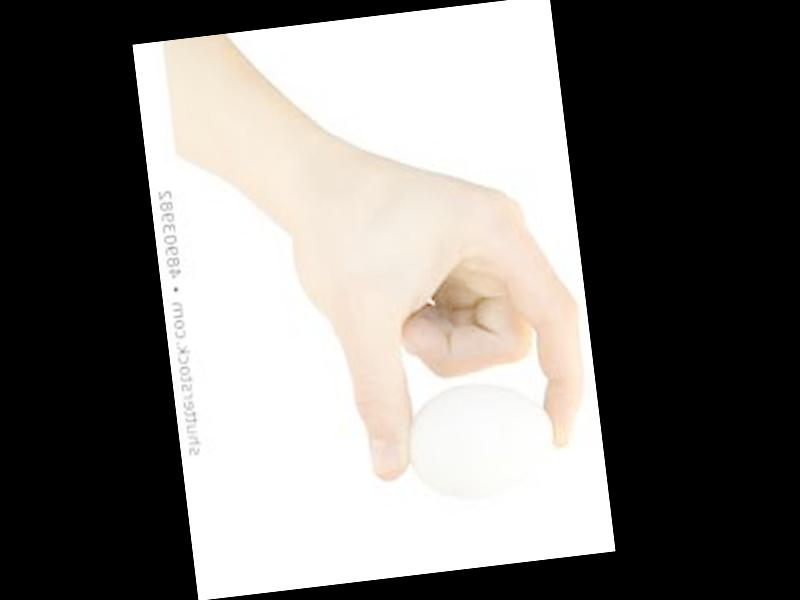Eggs: (400, 374, 559, 502)
